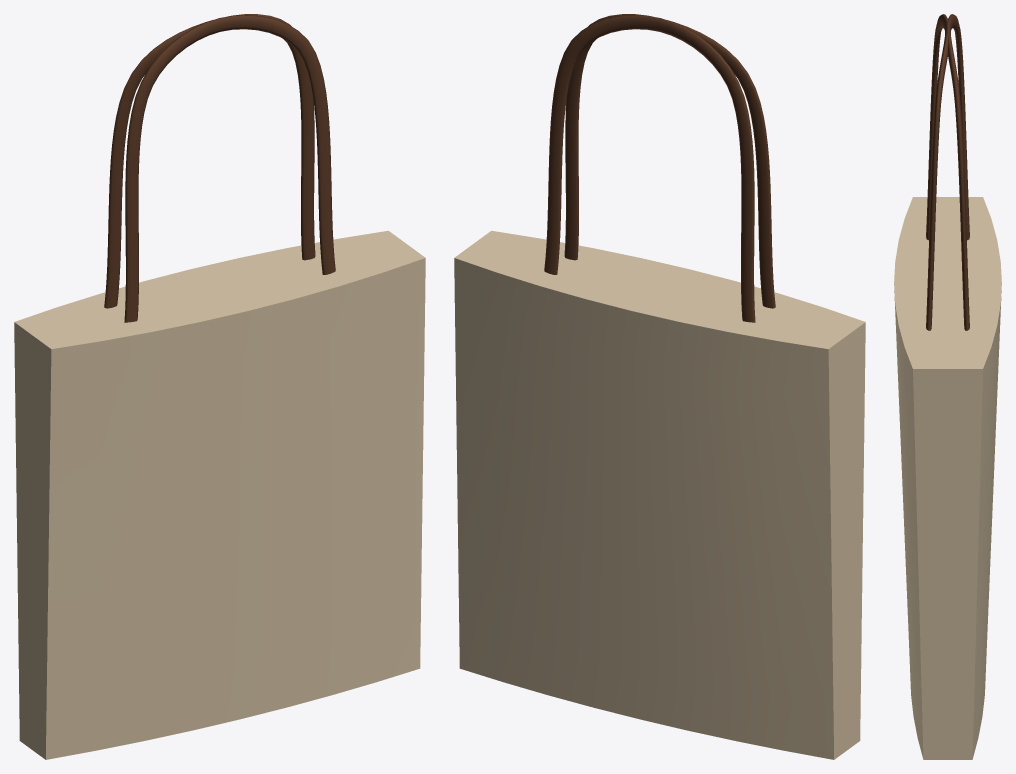
The model's file is bag-tote.glb.
The picture shows the model from 3 angles, left to right: view 1: azimuth 30°, elevation 25°; view 2: azimuth 150°, elevation 25°; view 3: azimuth 270°, elevation 25°; orthographic projection. The views are drawn at different scales.
Visible parts, largest first — view 1: body, handle (×2); view 2: body, handle (×2); view 3: body, handle (×2).
Part boxes in pixels (box(x1,y1,x2,y2)): body: box(14, 230, 425, 759); handle (×2): box(104, 14, 335, 322); body: box(454, 230, 865, 759); handle (×2): box(544, 14, 775, 322); body: box(894, 197, 1001, 759); handle (×2): box(926, 14, 969, 330).
Bounding box in the file's own units: 0.34 × 0.5957 × 0.09.
